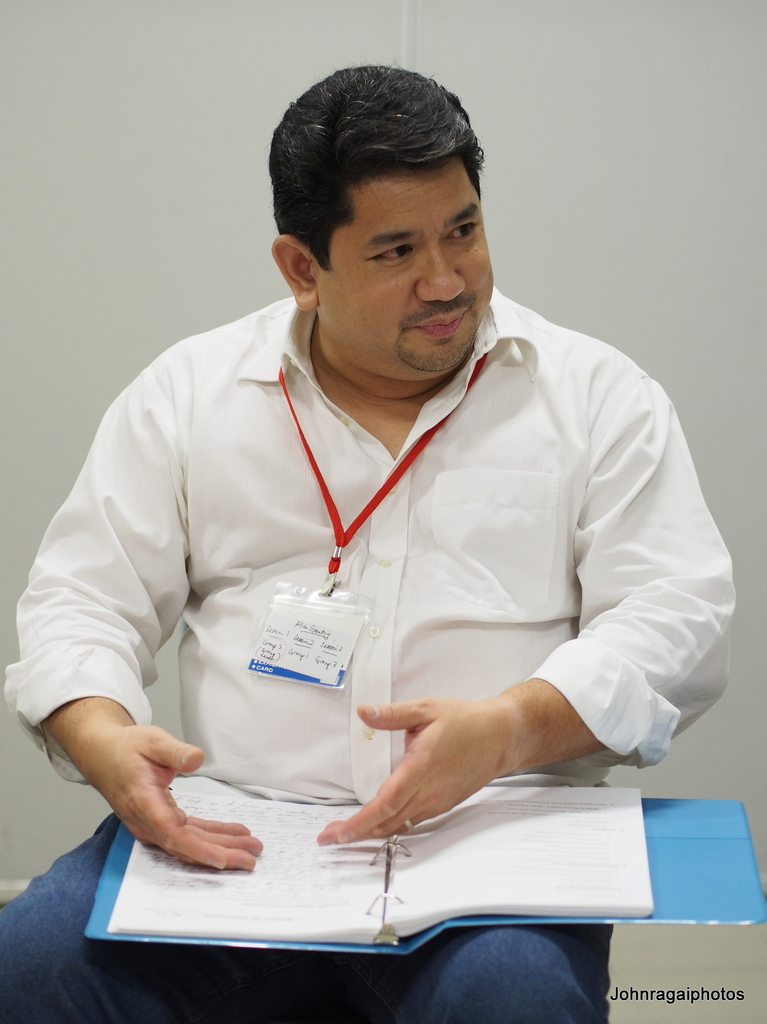Person: (0, 55, 735, 1023)
